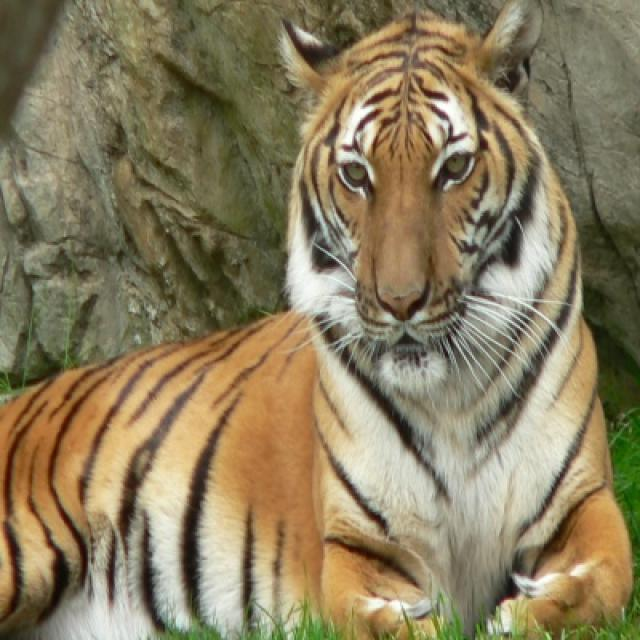Tiger: (0, 2, 630, 638)
